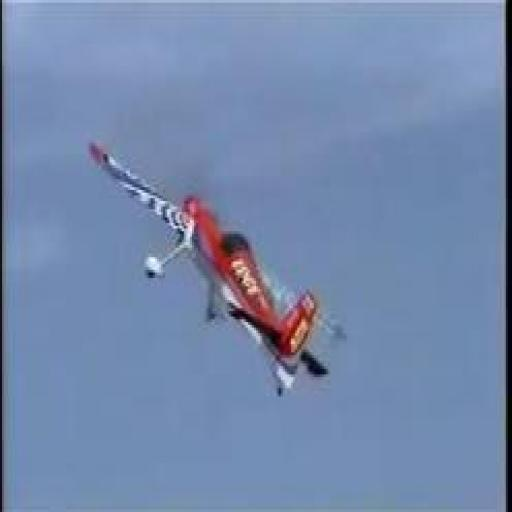aircraft: (86, 140, 334, 395)
